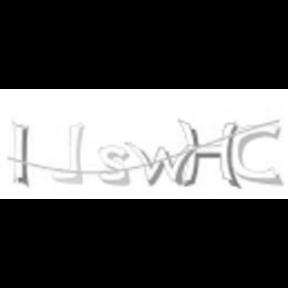C: (229, 120, 283, 184)
H: (174, 116, 242, 190)
I: (6, 122, 34, 186)
J: (50, 120, 86, 188)
s: (97, 144, 131, 188)
w: (126, 142, 198, 186)
